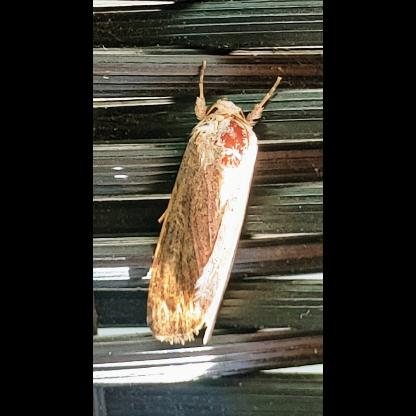Fall Armyworm Moth: (143, 55, 288, 349)
